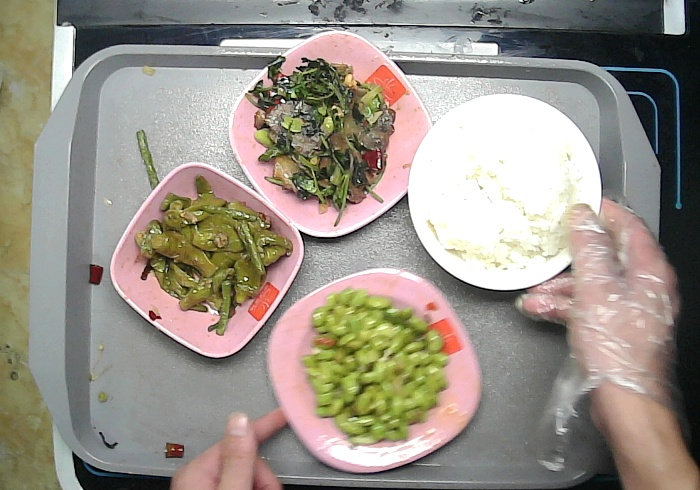SHKJ-Fan_Wan: (406, 91, 605, 295)
SHKJ-Fen_Se_Cai_Die: (225, 29, 437, 240)
SHKJ-Fen_Se_Si_Fang_Cai_Die: (265, 264, 486, 477)
SHKJ-Fen_Se_Xiao_Fang_Die: (109, 159, 307, 363)
